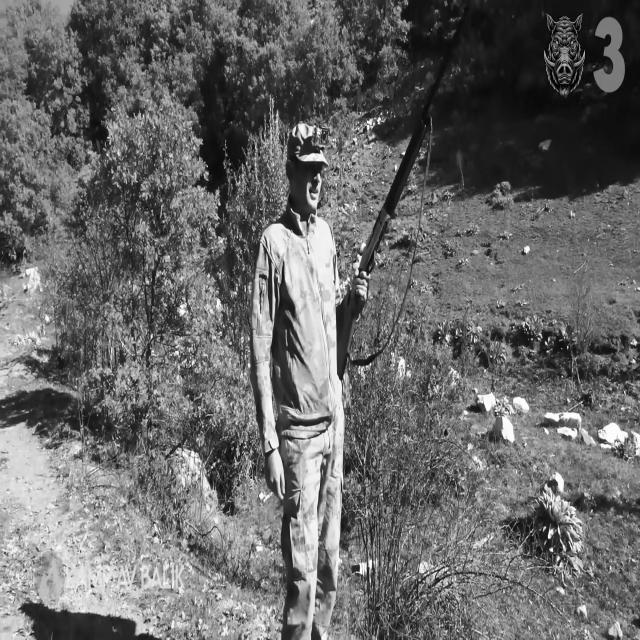boar: (544, 14, 584, 96)
monkey: (250, 122, 369, 638)
